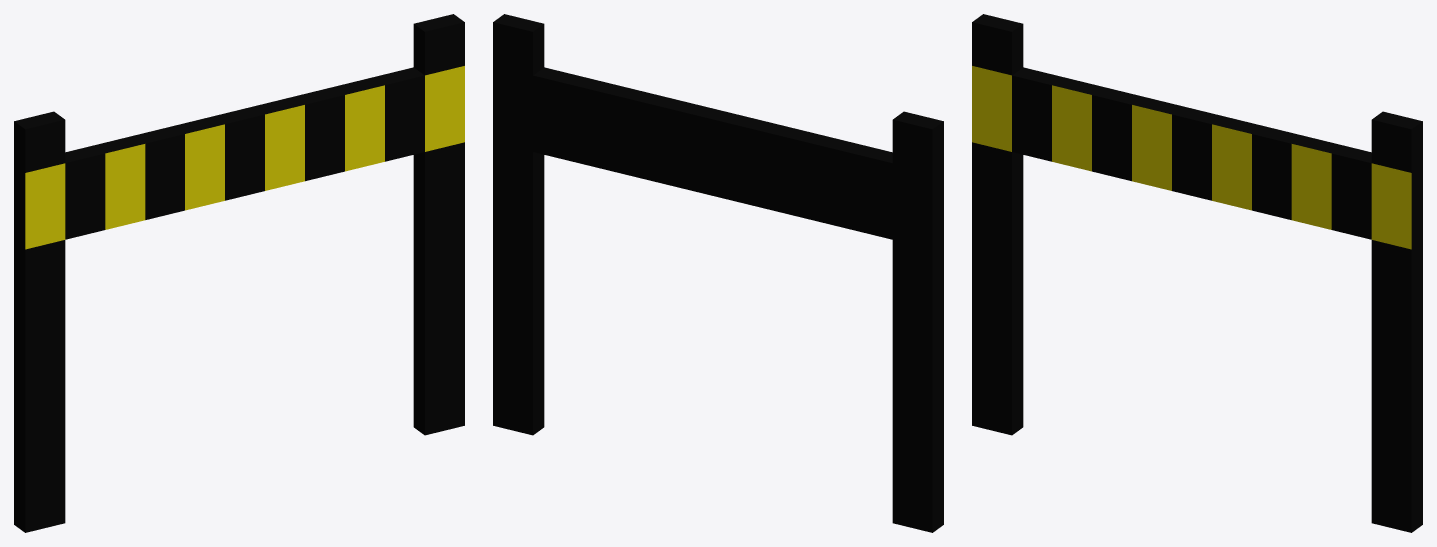
Rendered from plaque.fbx.
The picture shows the model from 3 angles, left to right: view 1: azimuth 30°, elevation 25°; view 2: azimuth 150°, elevation 25°; view 3: azimuth 330°, elevation 25°; orthographic projection.
Visible parts, largest first — view 1: Cube; view 2: Cube; view 3: Cube.
Part boxes in pixels (x1,y1,x2,y2): Cube: (14, 14, 464, 532); Cube: (493, 14, 943, 532); Cube: (972, 14, 1422, 532).
Size of the model in its own units: 1202 by 1055 by 52.85.
